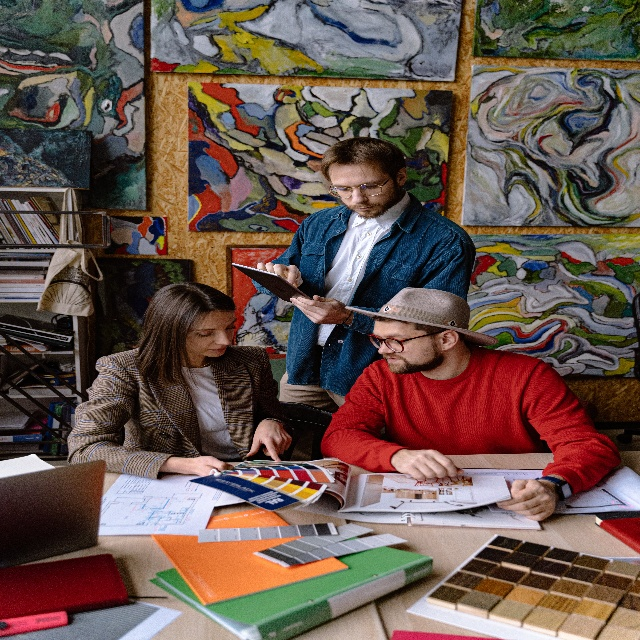Gafas: (328, 172, 394, 199), (367, 331, 442, 353)
Sin_guantes: (496, 477, 558, 522), (392, 449, 464, 480), (246, 420, 292, 462), (289, 294, 346, 325), (257, 262, 303, 288), (190, 455, 234, 476)
